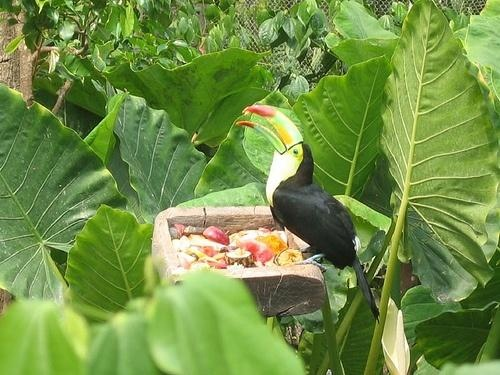bird: (236, 105, 381, 326)
